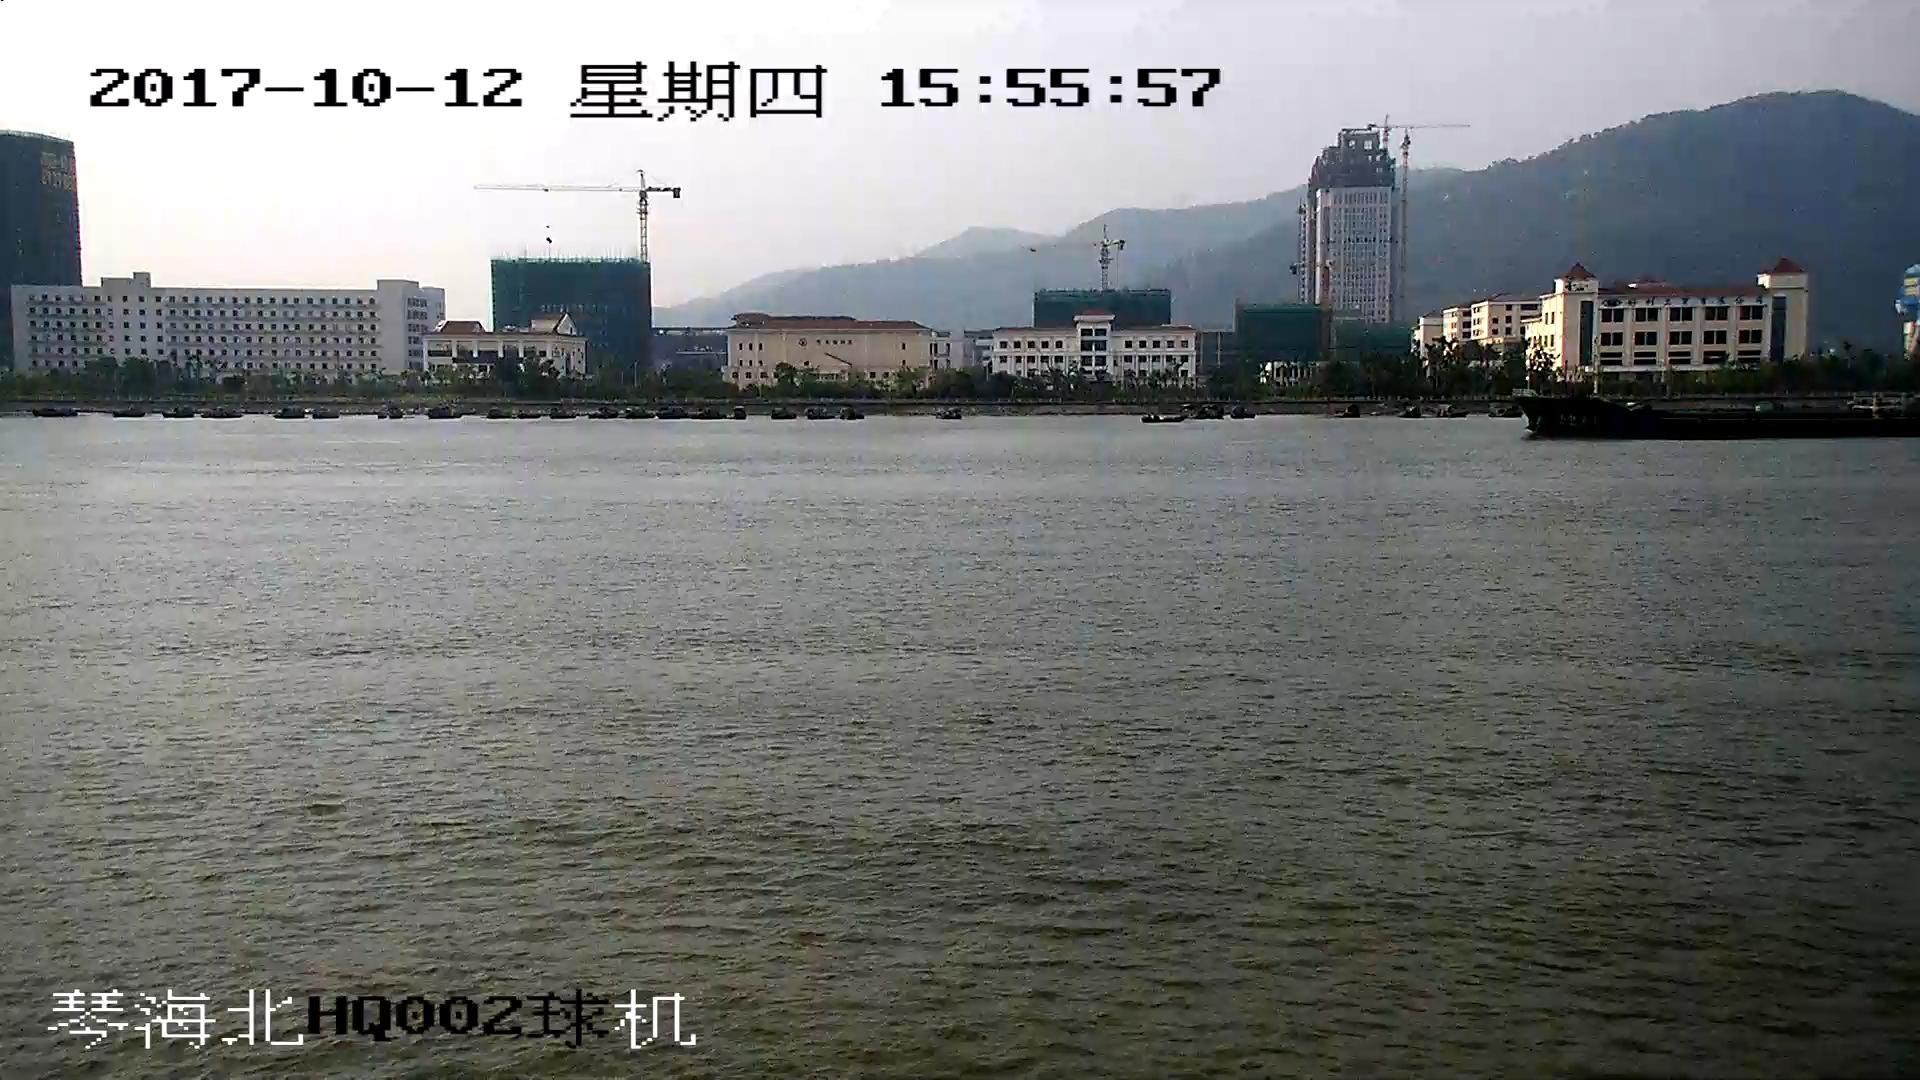general cargo ship: (1511, 384, 1920, 441)
